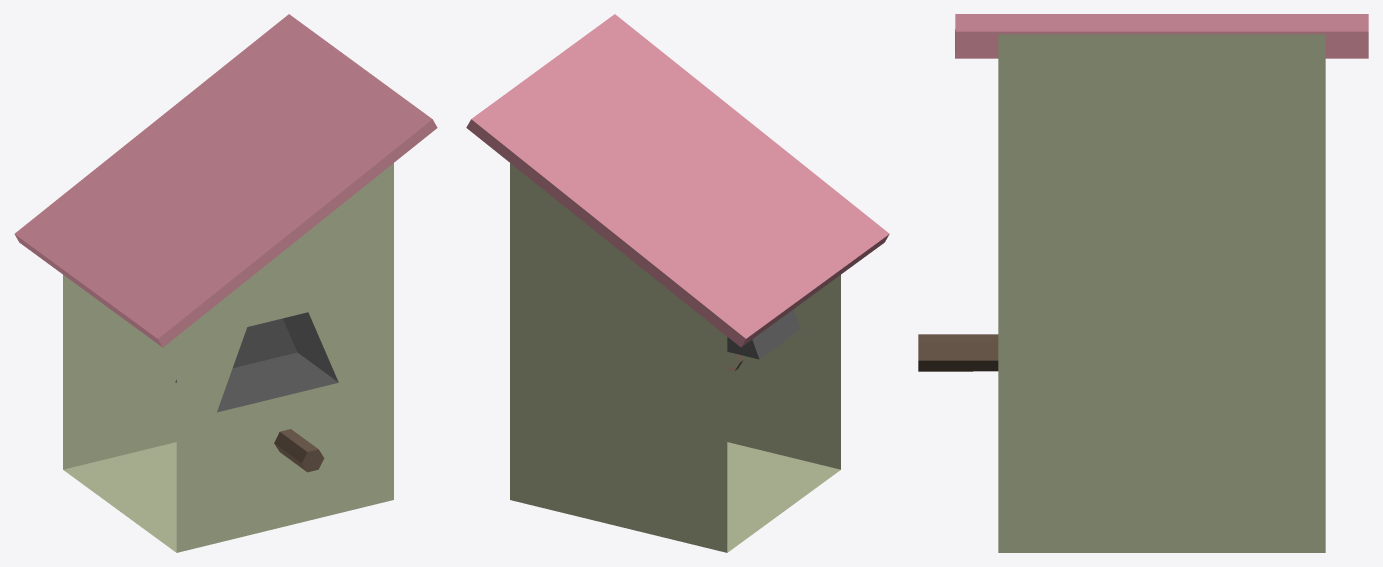
File: Birdhouse.fbx
3 views of the same model, side by side, from view 1: azimuth 30°, elevation 25°; view 2: azimuth 150°, elevation 25°; view 3: azimuth 270°, elevation 25° (orthographic). The views are drawn at different scales.
Parts seen in each view (by area): view 1: Birdhouse; view 2: Birdhouse; view 3: Birdhouse.
Boxes of the visible parts, bbox=[...] form: Birdhouse: bbox=[14, 14, 437, 552]; Birdhouse: bbox=[466, 14, 889, 552]; Birdhouse: bbox=[918, 14, 1368, 552].
Size of the model in its own units: 49.99 by 48.43 by 65.91.
